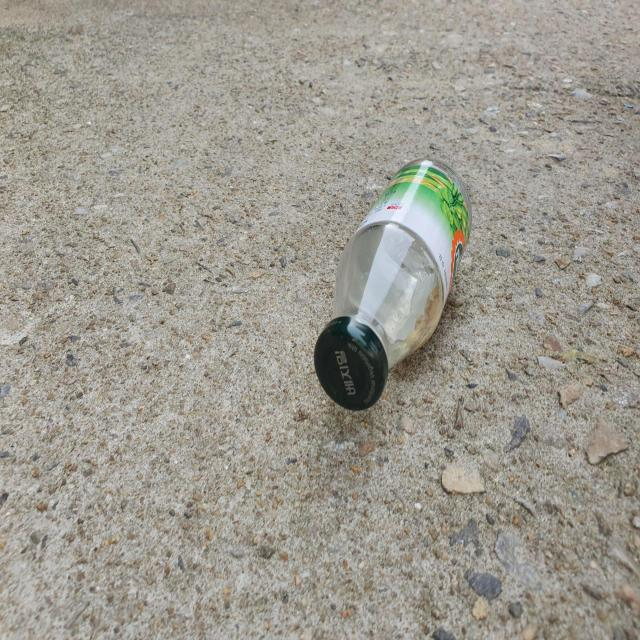glass: (314, 159, 472, 411)
